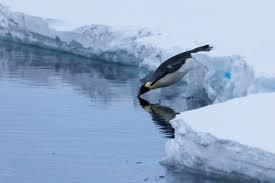emporer: (123, 52, 222, 96)
